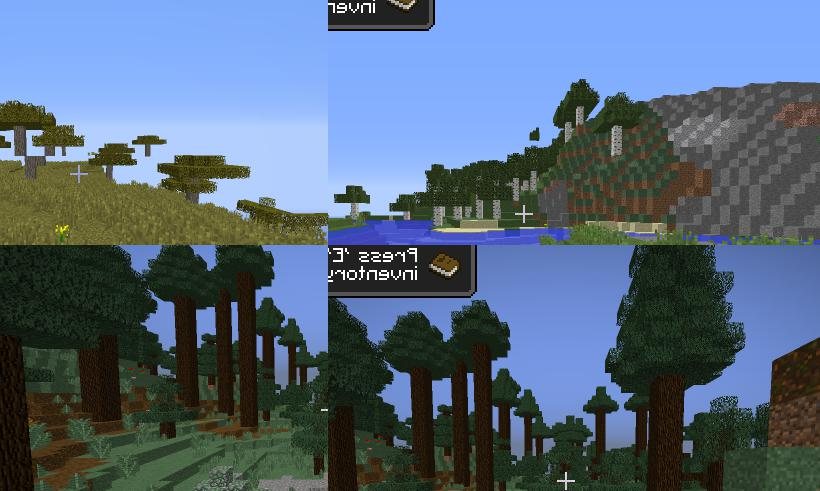minecraft-blocks: (1, 325, 36, 491), (650, 379, 684, 491), (79, 347, 125, 421), (174, 301, 201, 412), (410, 372, 437, 483), (244, 284, 261, 431), (479, 355, 497, 491), (329, 417, 362, 491), (13, 127, 46, 181), (596, 412, 608, 459), (709, 462, 727, 491), (612, 127, 623, 159), (435, 207, 444, 228), (577, 107, 585, 128), (477, 201, 484, 221), (494, 201, 501, 221), (514, 179, 520, 202), (352, 204, 360, 220), (566, 123, 572, 144), (532, 172, 537, 196), (455, 207, 463, 221), (107, 166, 114, 180), (466, 207, 473, 219), (146, 145, 152, 158), (524, 181, 530, 192), (405, 213, 411, 221)
